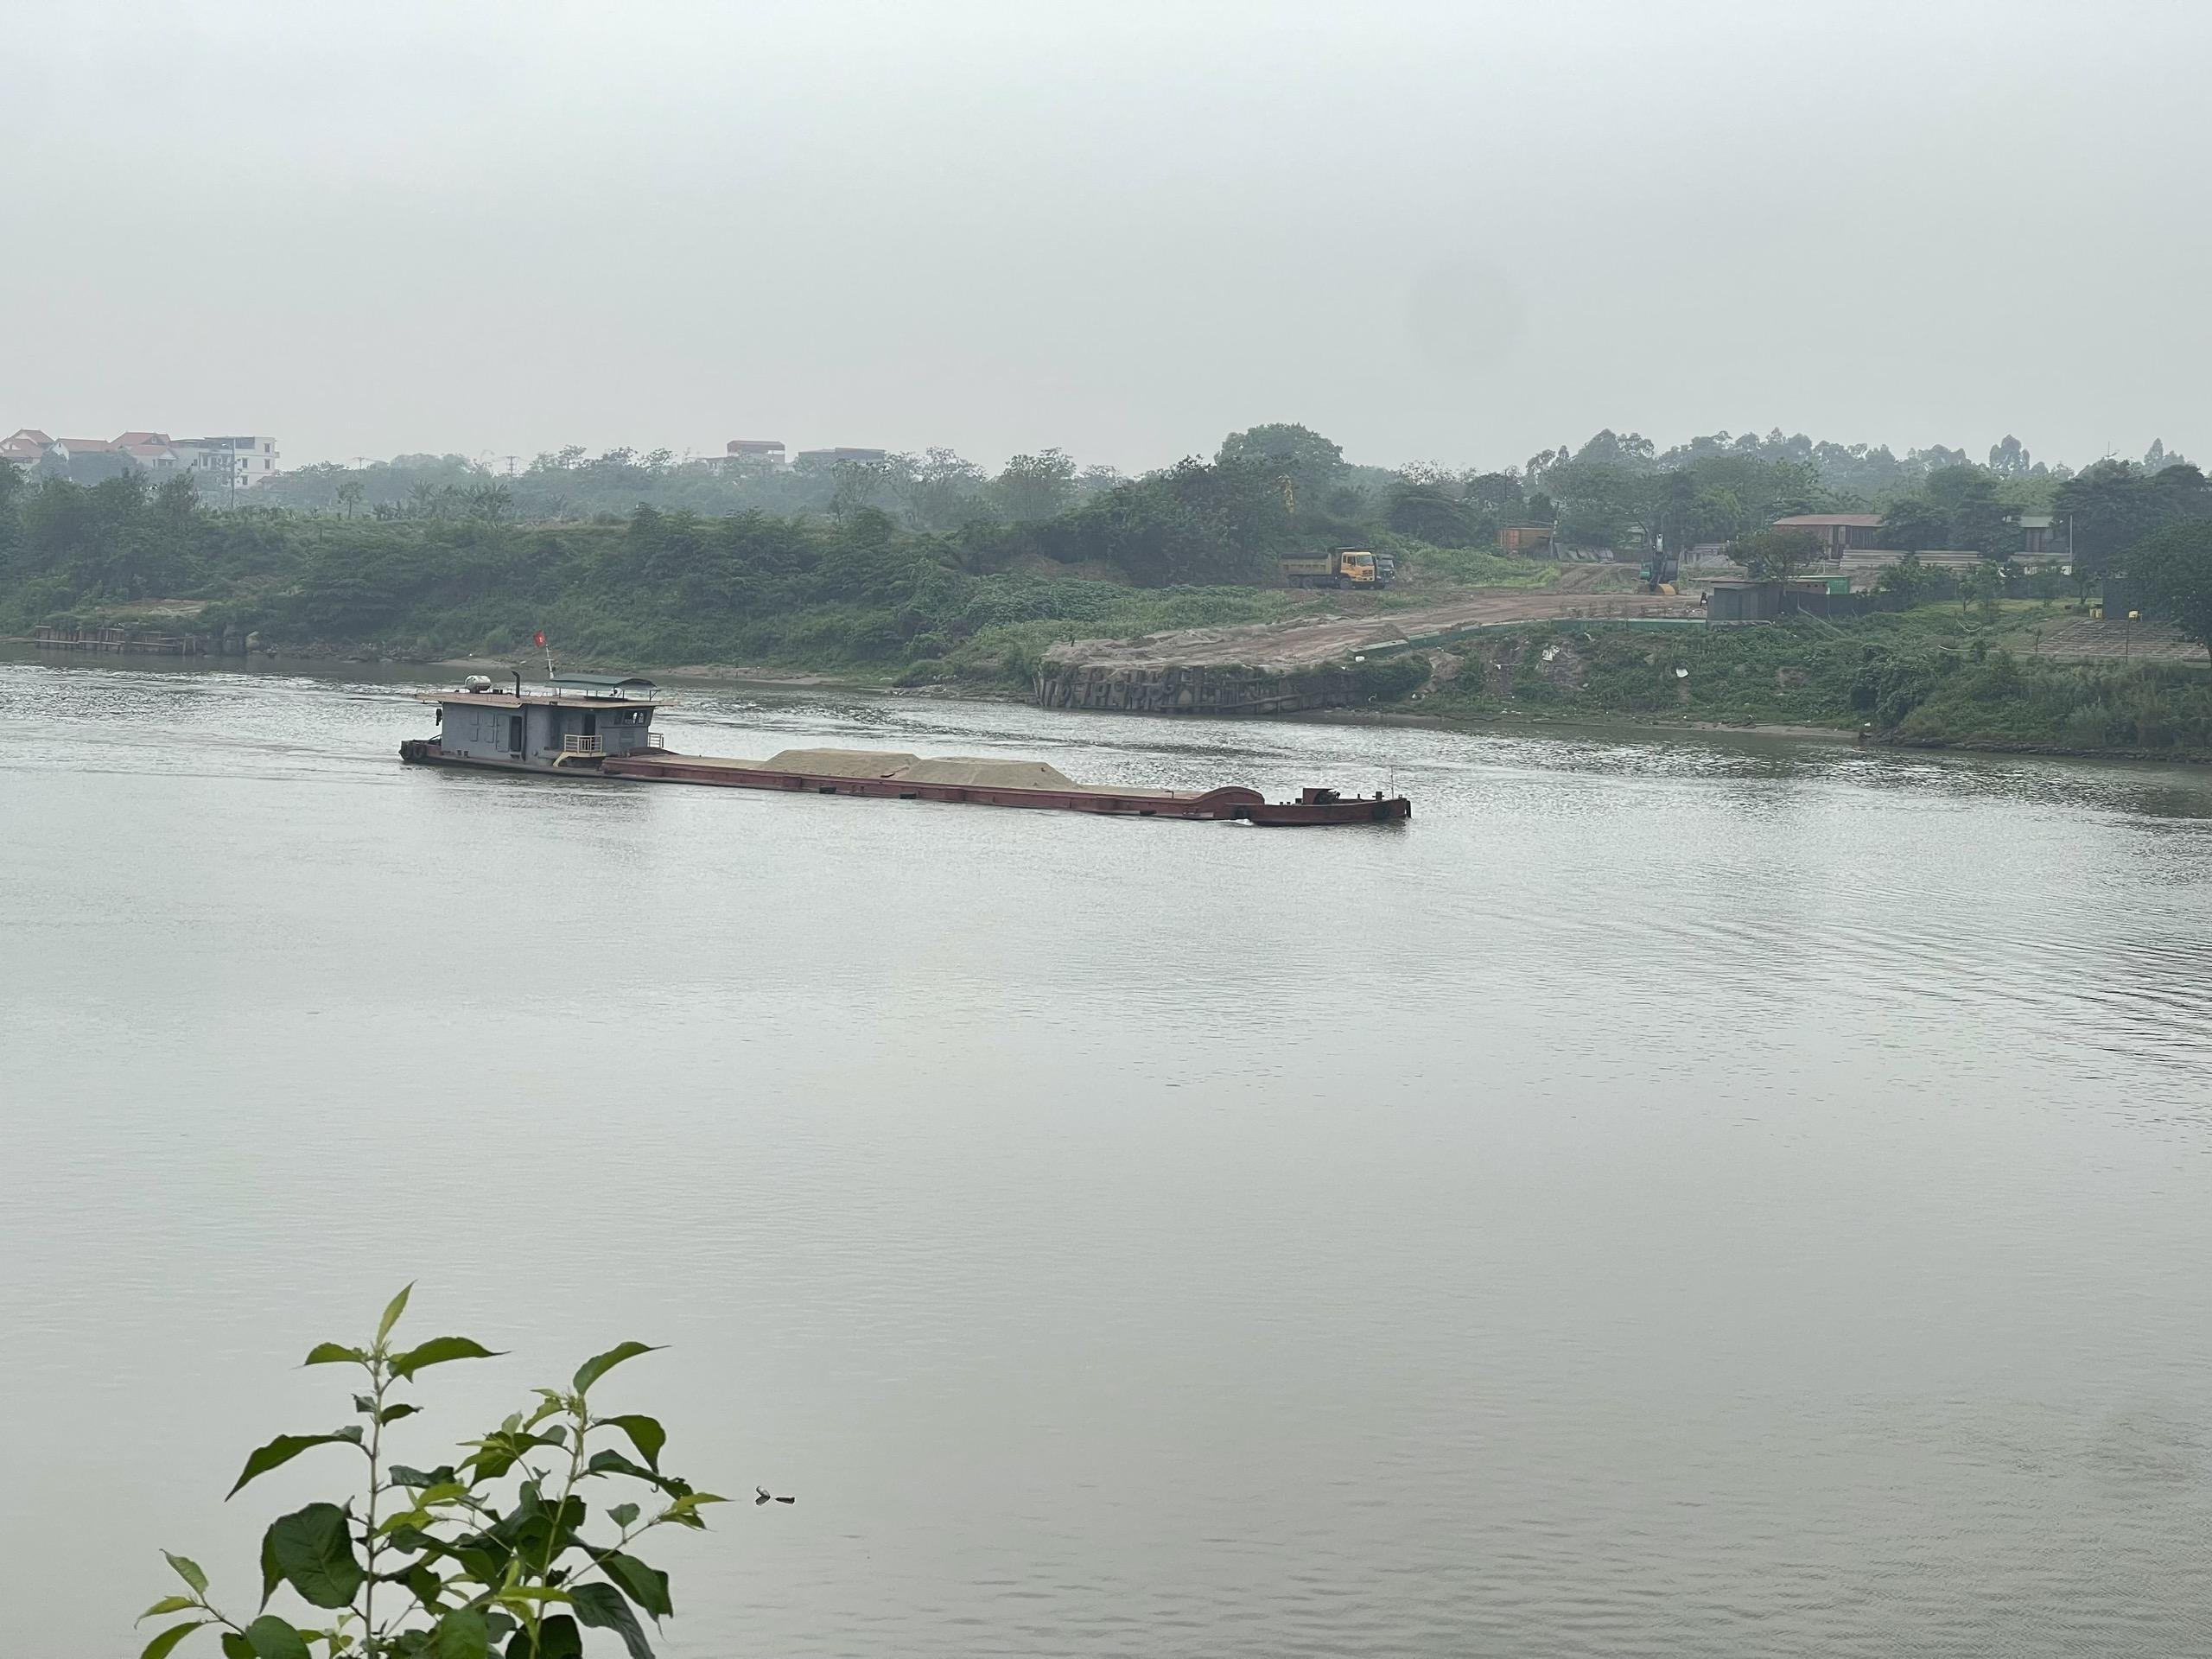Ship: (388, 664, 1435, 836)
